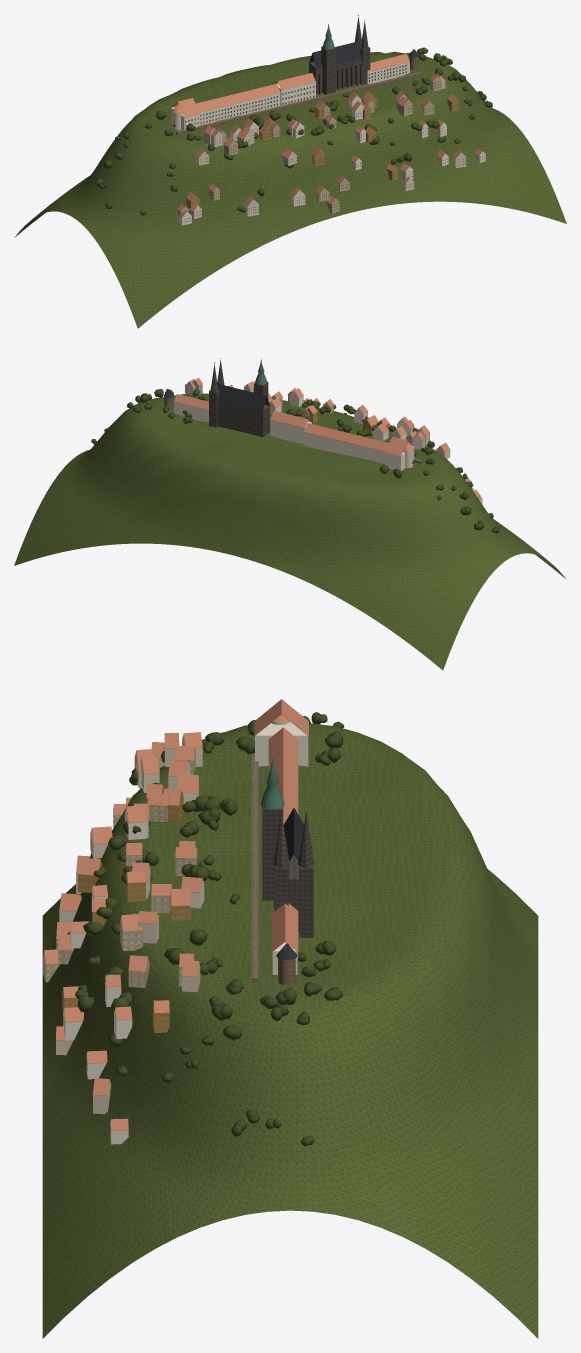
Rendered from castle_hill.gltf.
3 views of the same model, one above another, from view 1: azimuth 30°, elevation 25°; view 2: azimuth 150°, elevation 25°; view 3: azimuth 270°, elevation 25° (orthographic). The views are drawn at different scales.
Visible parts, largest first — view 1: castle_hill_mesh; view 2: castle_hill_mesh; view 3: castle_hill_mesh.
Part boxes in pixels (x1,y1,x2,y2): castle_hill_mesh: [14, 15, 566, 328]; castle_hill_mesh: [14, 358, 566, 670]; castle_hill_mesh: [42, 699, 538, 1338].
Size of the model in its own units: 560 by 253 by 280.
14 materials, 10 textured.
